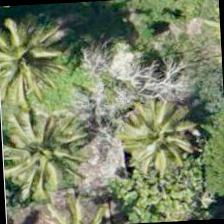Kelapa_Sawit: (110, 93, 205, 188), (0, 101, 86, 196), (0, 7, 70, 102)
